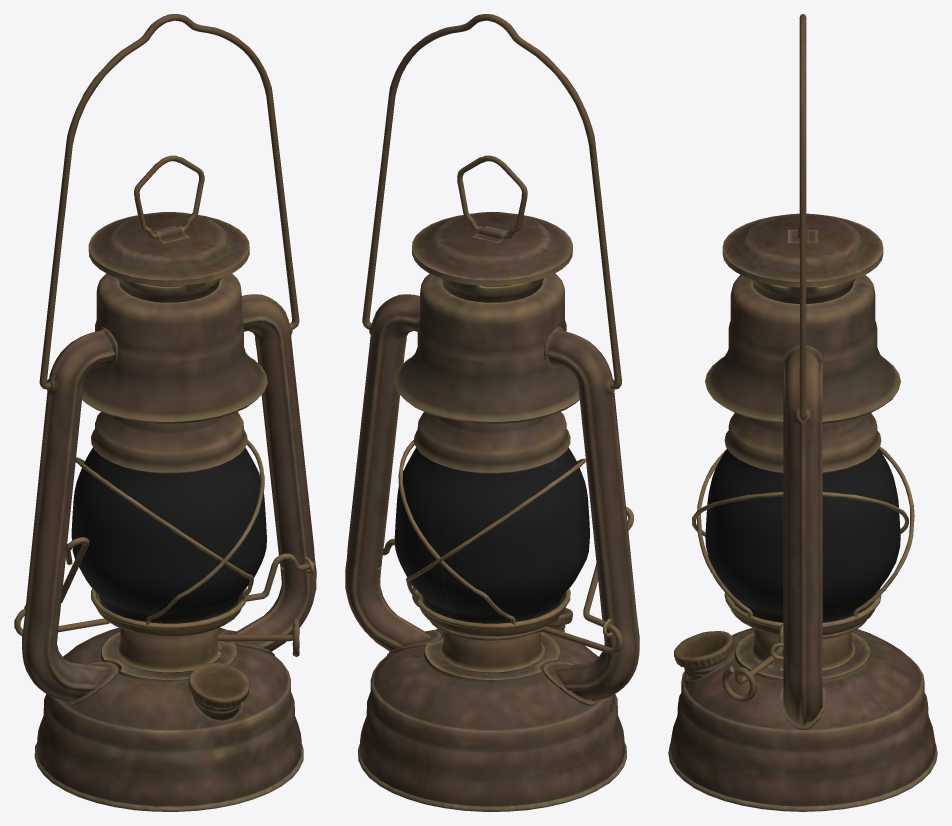
The model's file is lantern-01.glb.
The picture shows the model from 3 angles, left to right: view 1: azimuth 30°, elevation 25°; view 2: azimuth 150°, elevation 25°; view 3: azimuth 270°, elevation 25°; orthographic projection.
Visible parts, largest first — view 1: Lantern_01, Lantern_01_glass; view 2: Lantern_01, Lantern_01_glass; view 3: Lantern_01, Lantern_01_glass.
Part boxes in pixels (box(x1,y1,x2,y2)): Lantern_01: box(14, 14, 316, 811); Lantern_01_glass: box(71, 447, 266, 623); Lantern_01: box(345, 14, 639, 811); Lantern_01_glass: box(394, 447, 589, 623); Lantern_01: box(668, 14, 937, 811); Lantern_01_glass: box(705, 448, 900, 622).
Size of the model in its own units: 0.1221 by 0.2942 by 0.0972.
2 materials, 2 textured.
